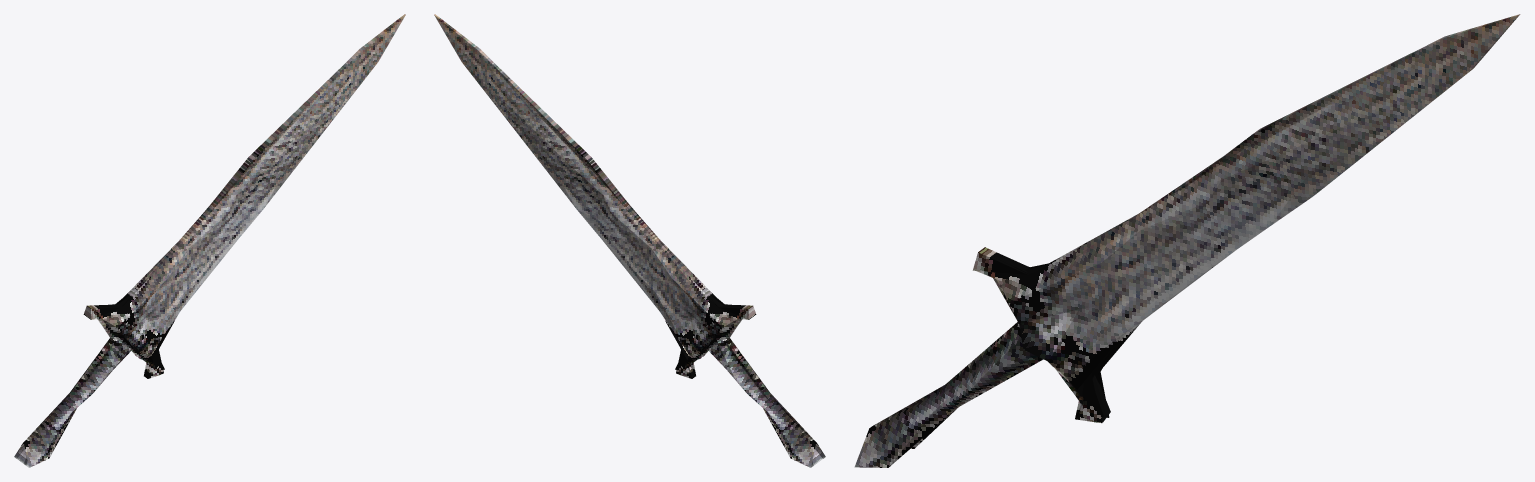
File: sword.glb
3 views of the same model, side by side, from view 1: azimuth 30°, elevation 25°; view 2: azimuth 150°, elevation 25°; view 3: azimuth 330°, elevation 25° (orthographic). The views are drawn at different scales.
Visible parts, largest first — view 1: Cube; view 2: Cube; view 3: Cube.
Boxes of the visible parts, box(x1,y1,x2,y2) form: Cube: box(14, 14, 405, 467); Cube: box(434, 14, 825, 467); Cube: box(854, 14, 1520, 467).
Bounding box in the file's own units: 2.15 × 1.9 × 0.2011.
1 material, 1 textured.
